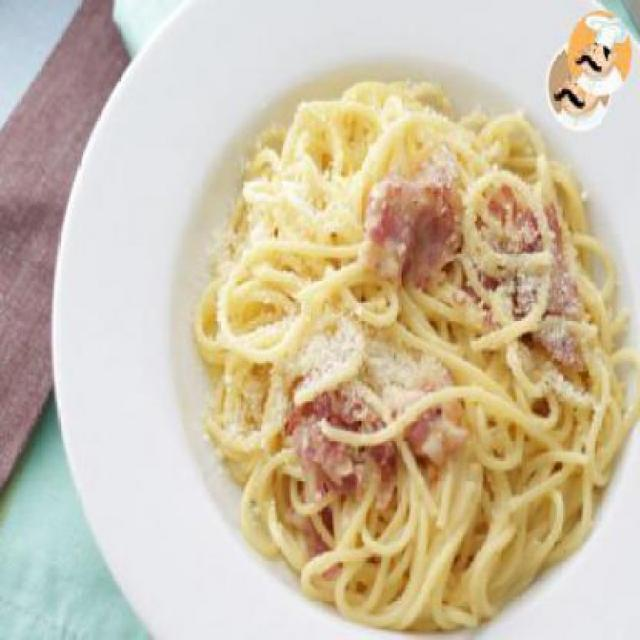Pasta with carbonara sauce: (123, 72, 639, 625)
